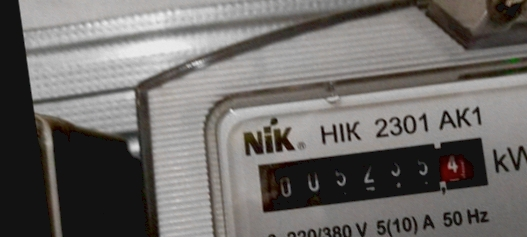0: (276, 171, 295, 199), (304, 165, 322, 192)
2: (359, 156, 376, 183)
3: (386, 150, 403, 177)
4: (443, 146, 461, 174)
5: (331, 160, 349, 188), (413, 148, 431, 176)
screen: (246, 121, 501, 224)
